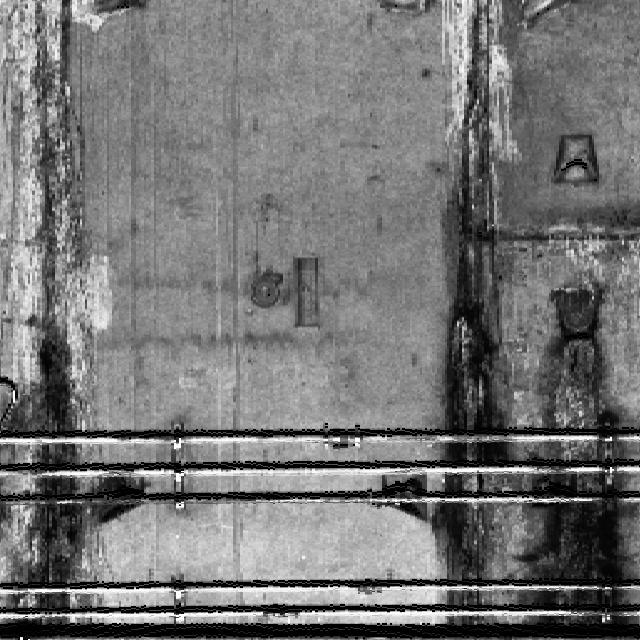leakage: (0, 0, 113, 632), (422, 0, 521, 633), (539, 269, 639, 639)
